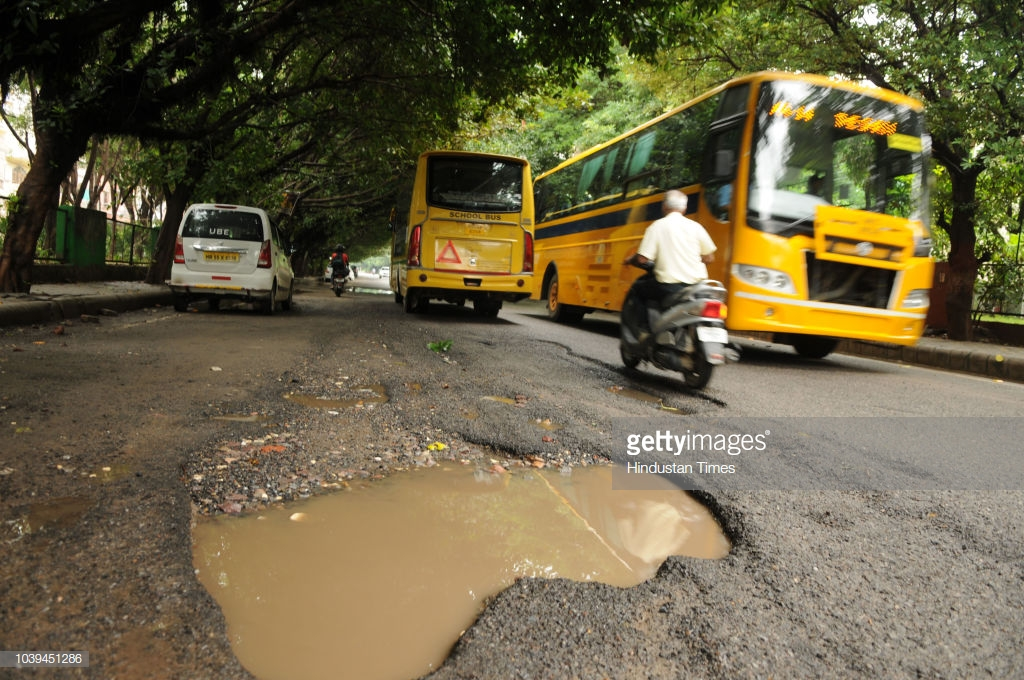pothole: (172, 408, 701, 679)
